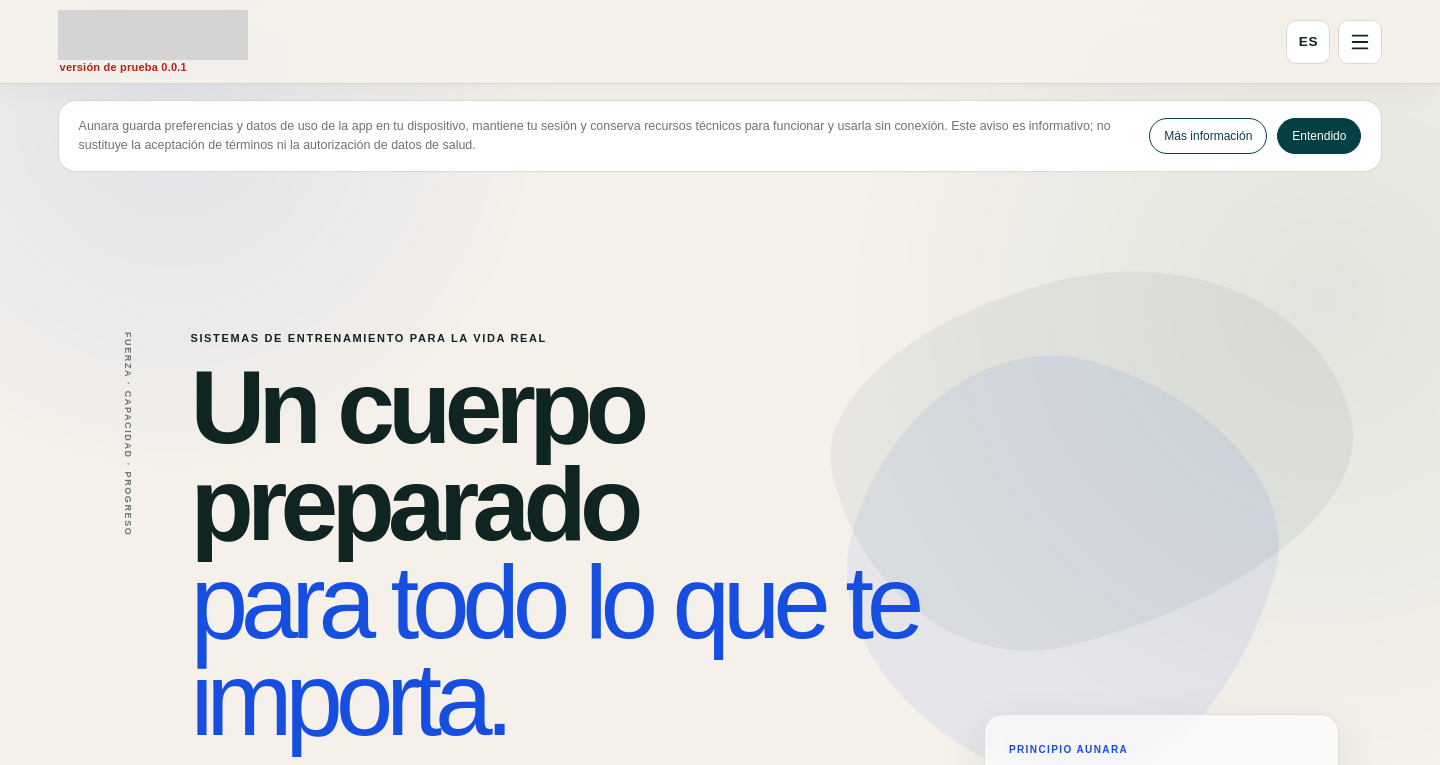
Scenario: signed-out home › changes the public interface to English via the header language toggle
Click the button with aria-label "Cambiar a inglés": (1308, 42) [1286,20,1330,64]
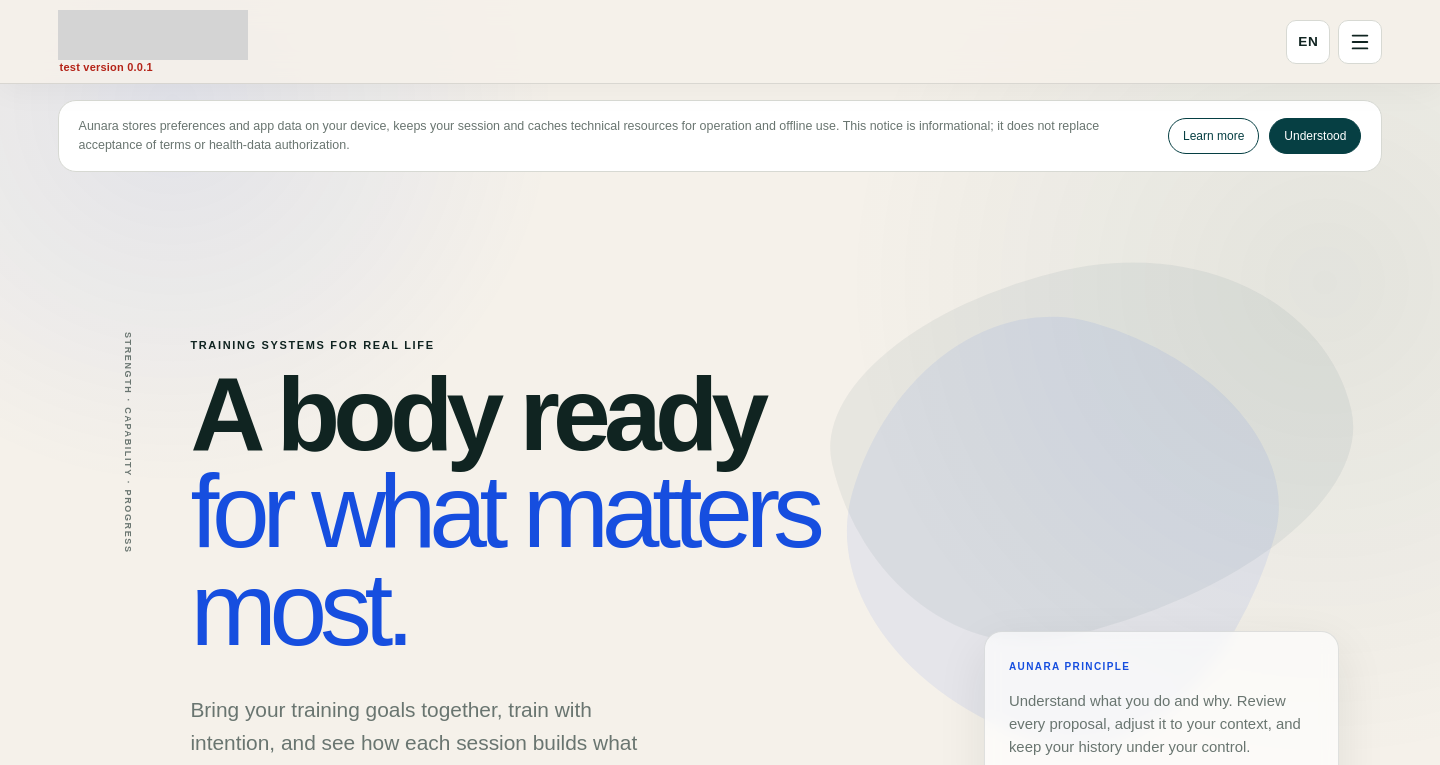
Expected: the button with aria-label "Switch to Spanish" reads "EN", [1286,20,1330,64]
Expected: the heading is shown, [190,366,926,658]
